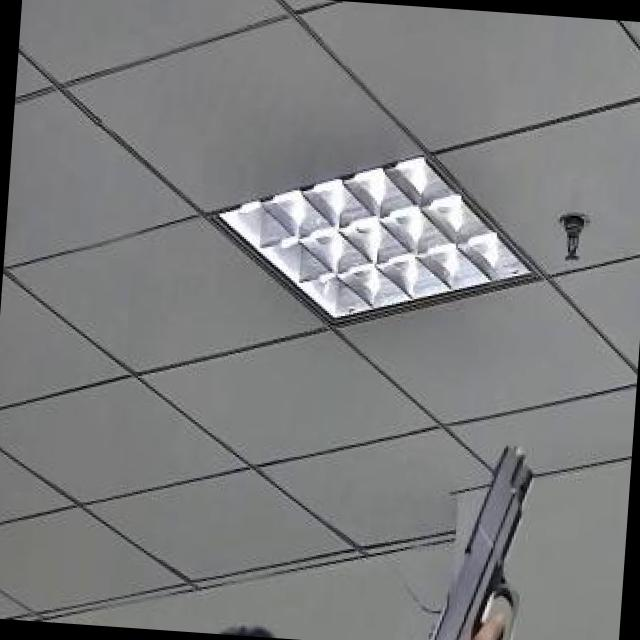Guns: (401, 395, 556, 640)
